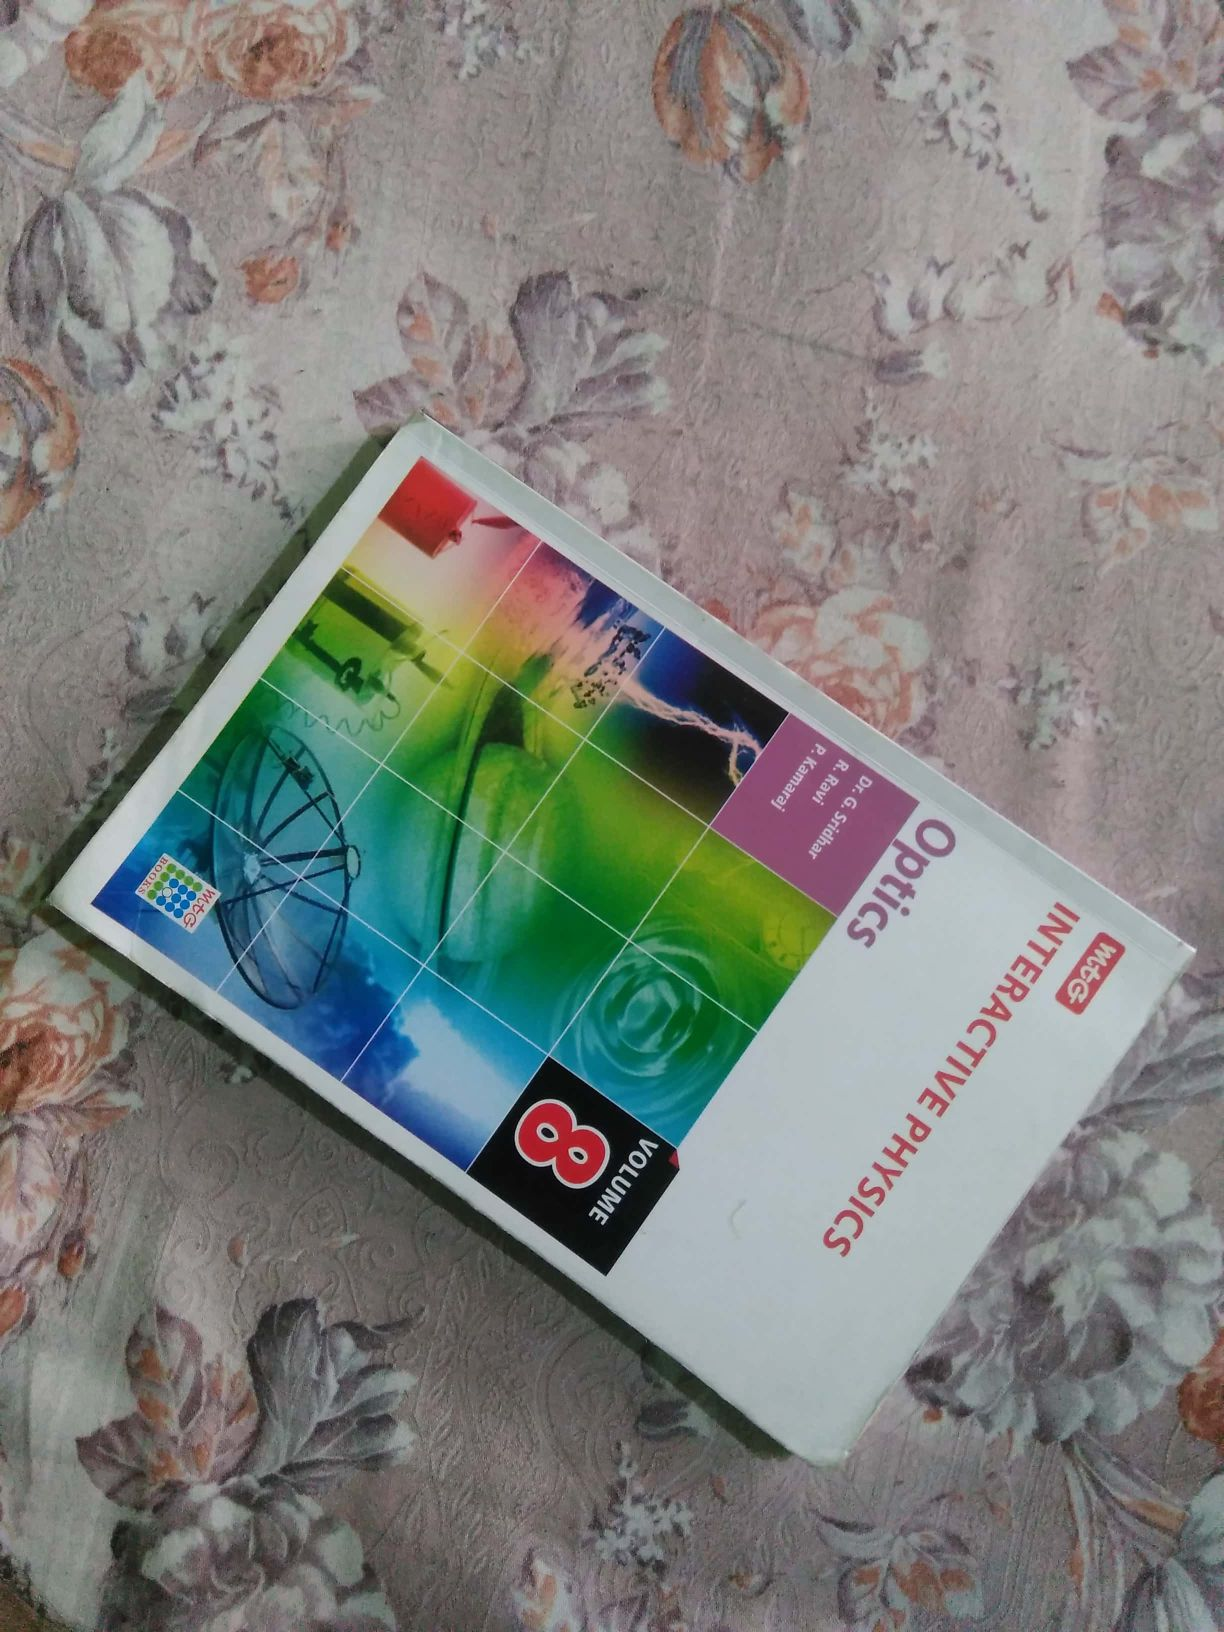optics: (59, 456, 1101, 1417)
